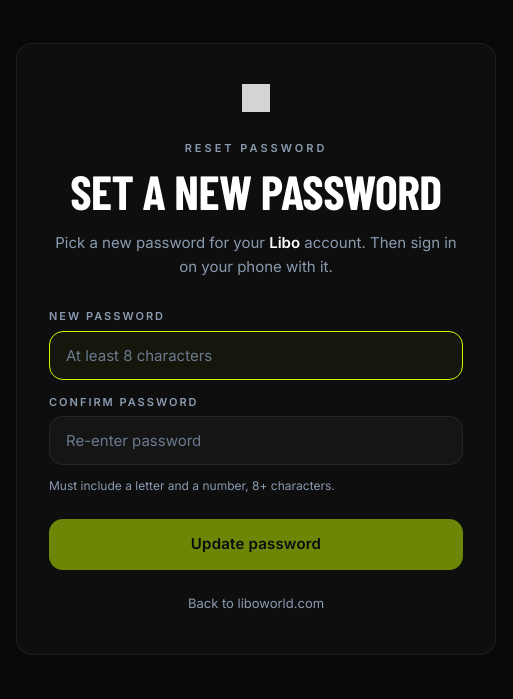
Scenario: AuthCallback › recovery › rejects passwords missing a letter
Expected: the heading "Set a new password" is shown, [49, 169, 463, 215]
Type "12345678" into the password field with placeholder "At least 8 characters" at (256, 355), box [49, 330, 463, 380]
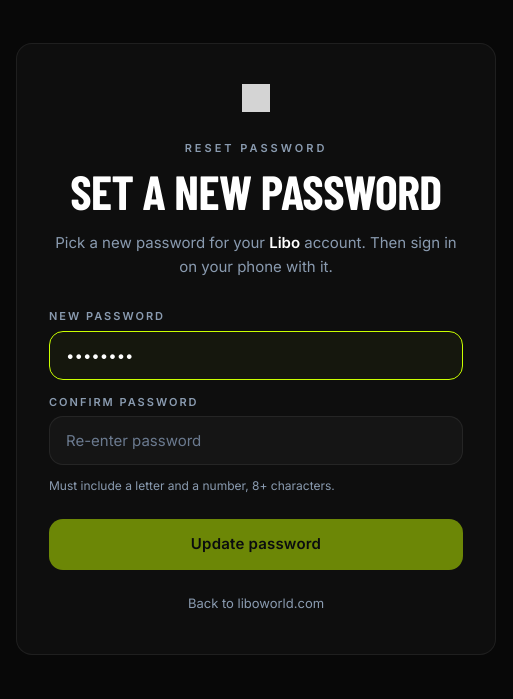
Type "12345678" into the password field with placeholder "Re-enter password" at (256, 440), box [49, 416, 463, 465]
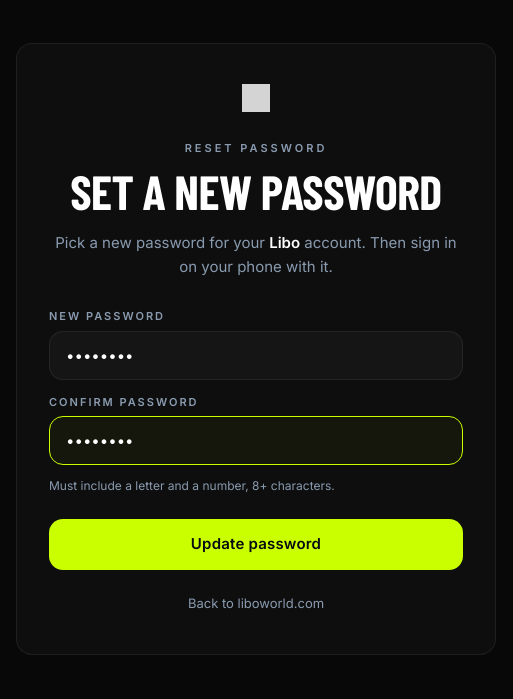
Click the button "Update password" at (256, 544), box [49, 519, 463, 570]
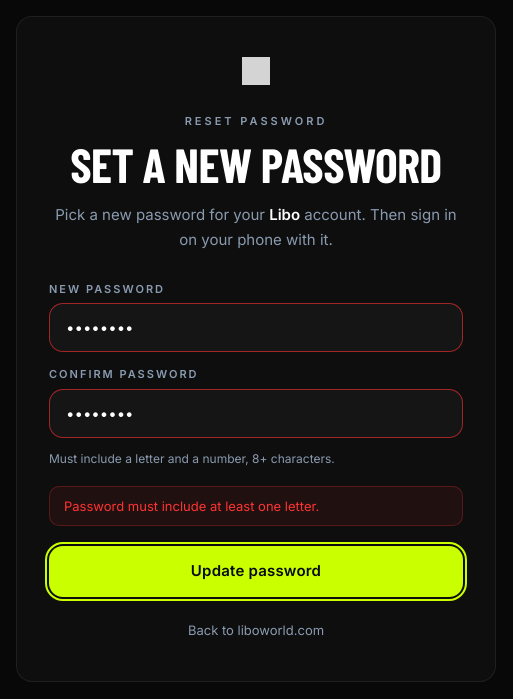
Now the message shows "include at least one letter", box [64, 498, 319, 514]
